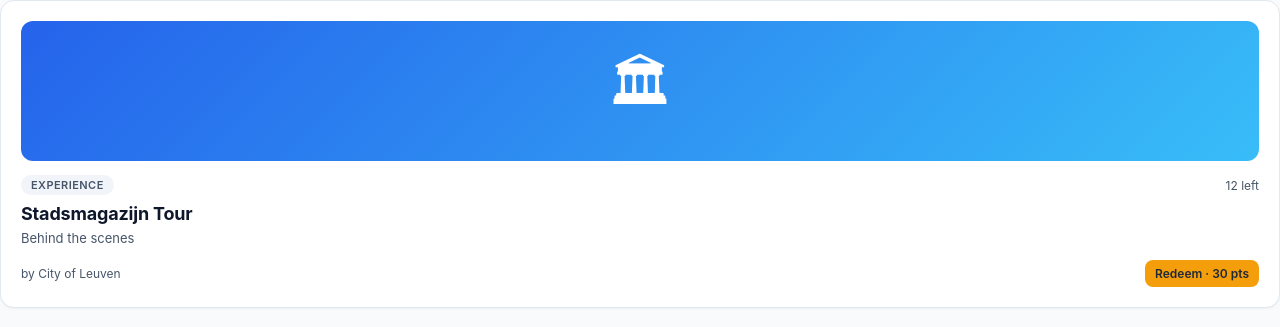
Test: RewardCard › can back out of the confirmation
Step 1. Click the button "Redeem · 30 pts" → (1202, 274), box [1145,260,1259,287]
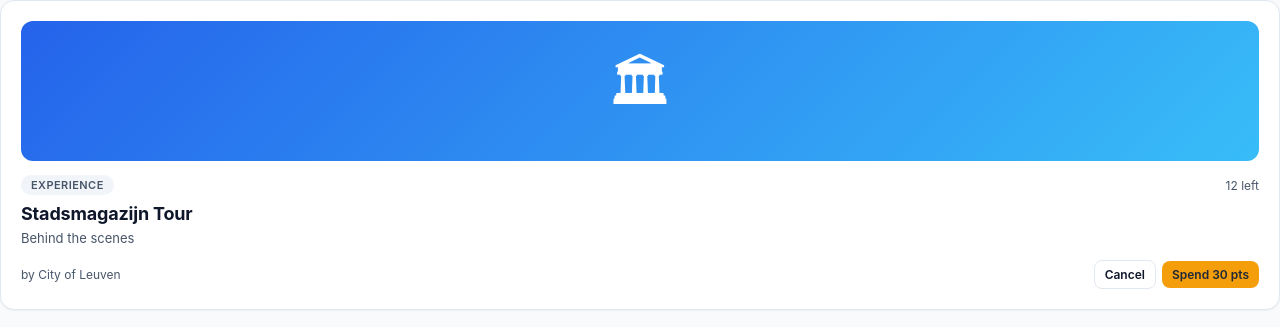
Step 2. Click the button "Cancel" → (1125, 274), box [1094,260,1156,289]
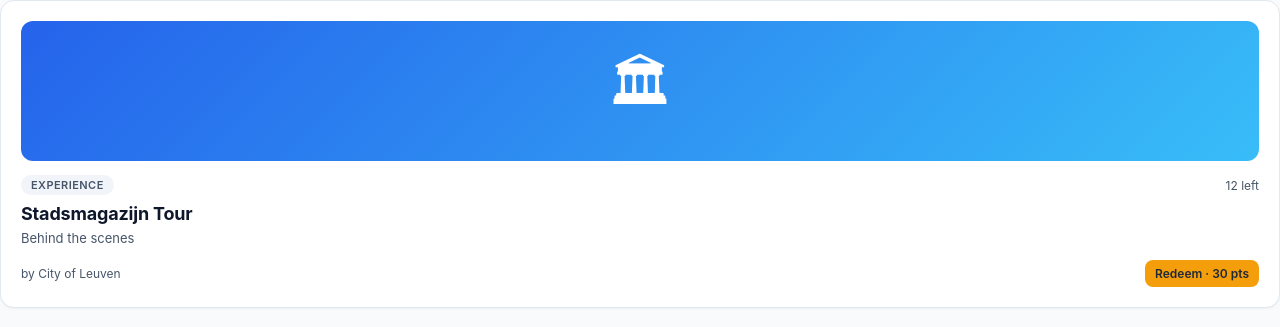
Expected: the button "Redeem · 30 pts" is enabled, [1145,260,1259,287]
